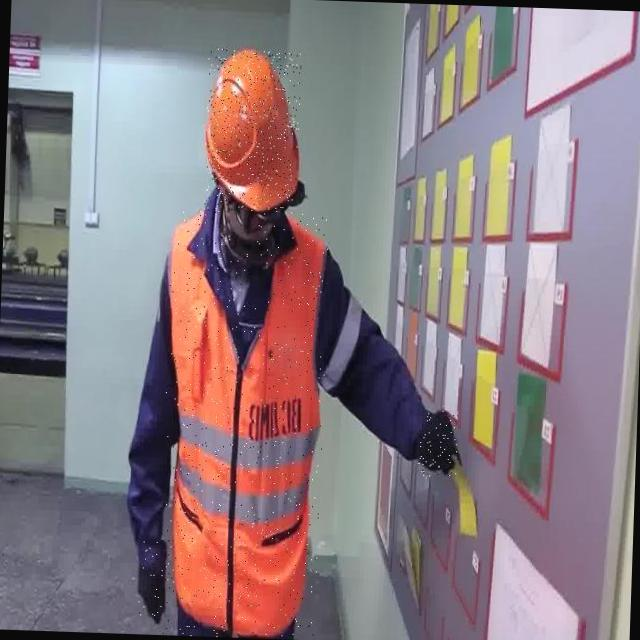helmet: (202, 48, 302, 214)
vest: (157, 209, 330, 640)
